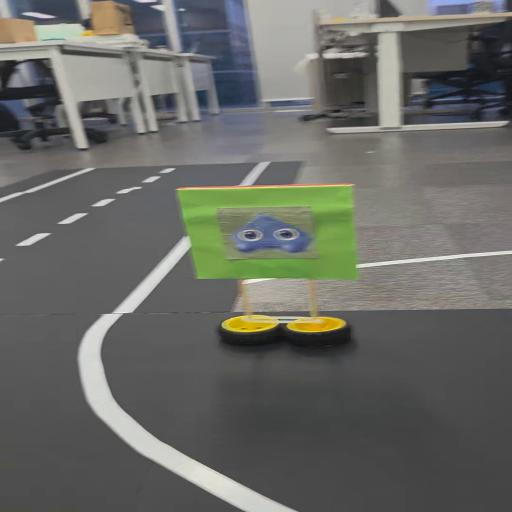Sign_B: (164, 180, 390, 349)
